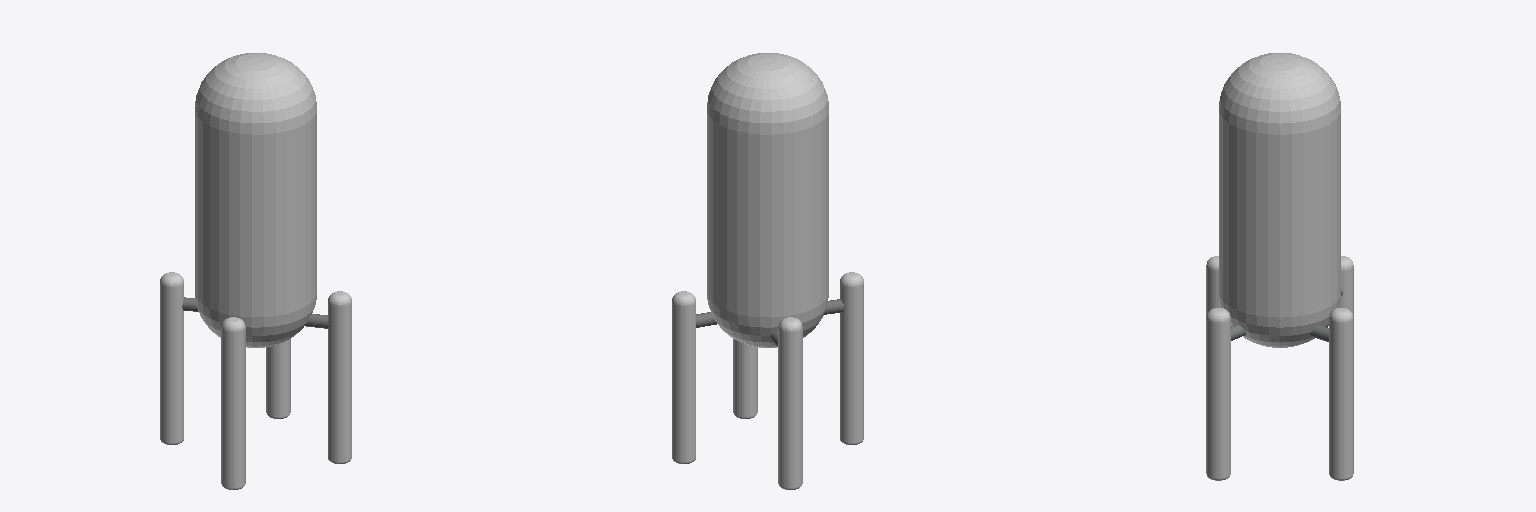
3 renders of one model, left to right at view 1: azimuth 30°, elevation 25°; view 2: azimuth 150°, elevation 25°; view 3: azimuth 270°, elevation 25°, orthographic.
Parts seen in each view (by area): view 1: Цилиндр.006_Цилиндр.008; view 2: Цилиндр.006_Цилиндр.008; view 3: Цилиндр.006_Цилиндр.008.
Part boxes in pixels (x1,y1,x2,y2): Цилиндр.006_Цилиндр.008: (160, 53, 351, 489); Цилиндр.006_Цилиндр.008: (672, 53, 863, 489); Цилиндр.006_Цилиндр.008: (1206, 53, 1353, 480).
Size of the model in its own units: 2.4 by 7 by 2.4.